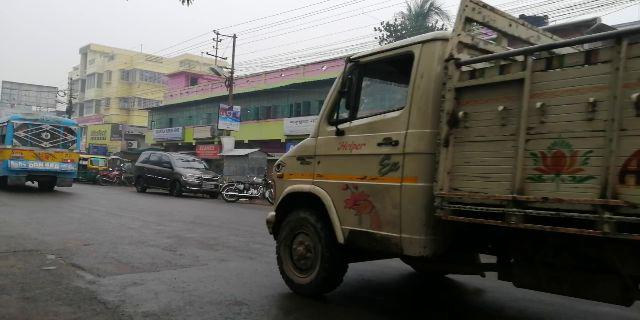Bus: (5, 115, 83, 182)
Car: (135, 150, 219, 201)
Truck: (270, 24, 622, 289)
